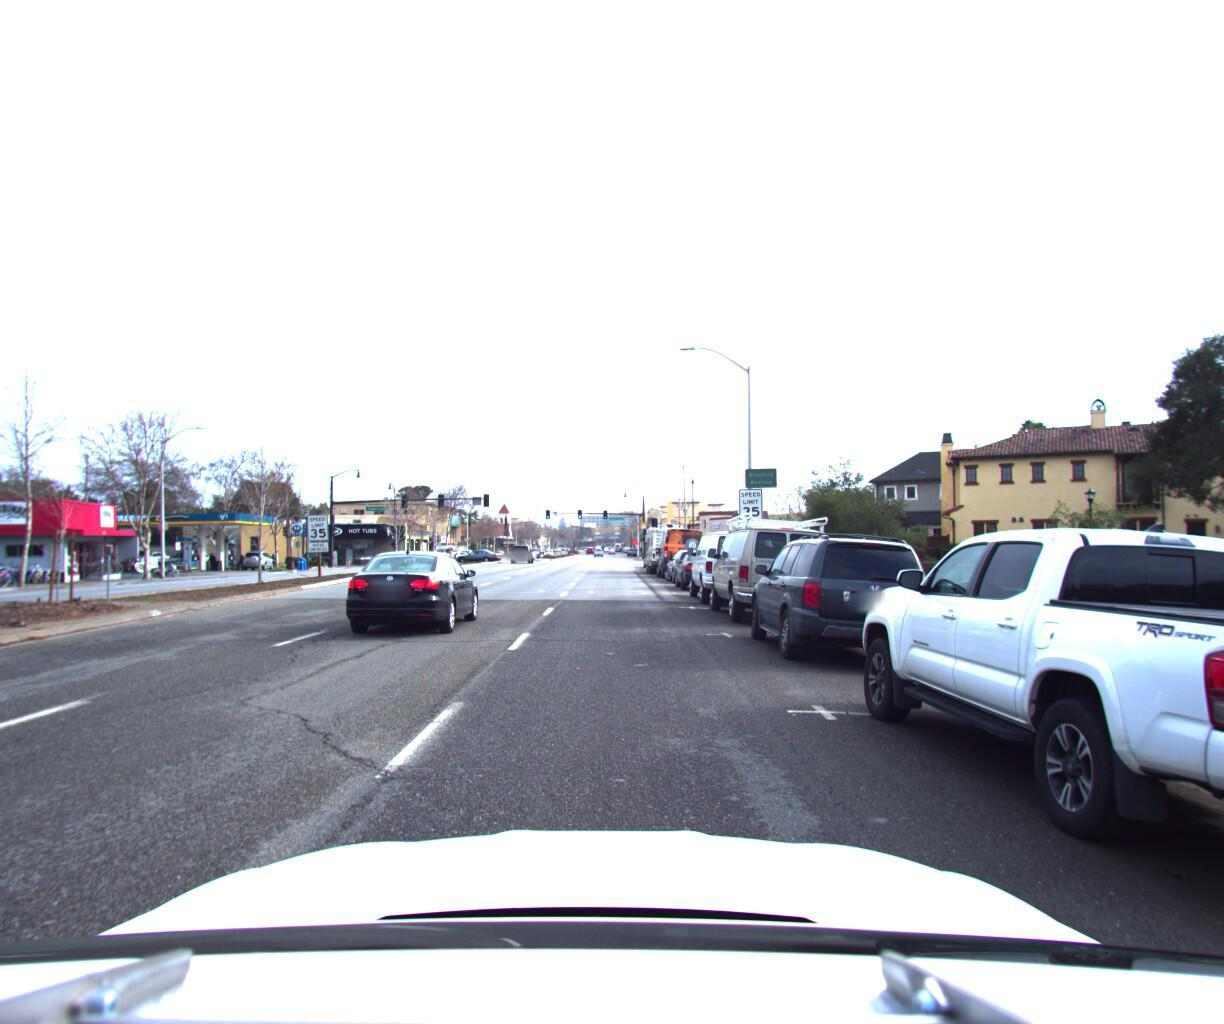bicycle: (151, 552, 185, 569), (6, 554, 27, 577)
car: (831, 516, 1224, 969), (738, 524, 945, 670), (703, 502, 840, 627), (338, 542, 486, 636), (684, 519, 780, 601), (654, 518, 706, 571), (672, 540, 729, 587), (663, 537, 714, 577), (240, 541, 277, 563), (508, 535, 530, 554)
other_vehicle: (642, 513, 696, 570)
